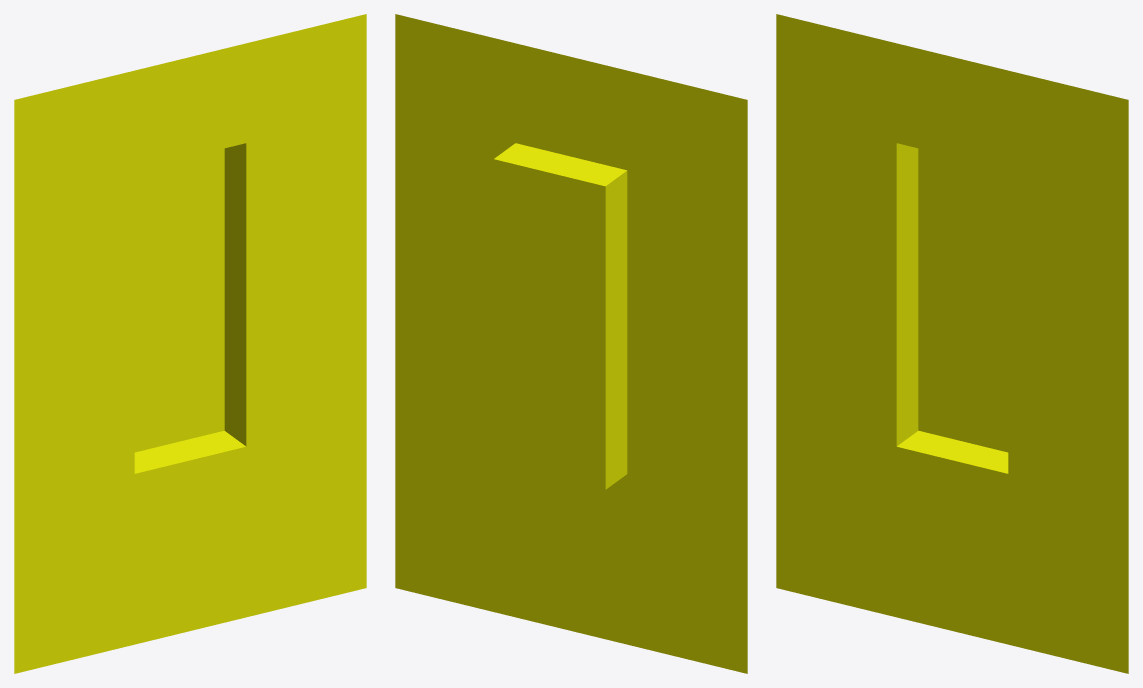
Rendered from Wall02.FBX.
The picture shows the model from 3 angles, left to right: view 1: azimuth 30°, elevation 25°; view 2: azimuth 150°, elevation 25°; view 3: azimuth 330°, elevation 25°; orthographic projection.
Parts seen in each view (by area): view 1: Object018; view 2: Object018; view 3: Object018.
Part boxes in pixels (x1,y1,x2,y2): Object018: (14, 14, 366, 673); Object018: (395, 14, 747, 673); Object018: (776, 14, 1128, 673).
Size of the model in its own units: 921 by 1436 by 99.2.
